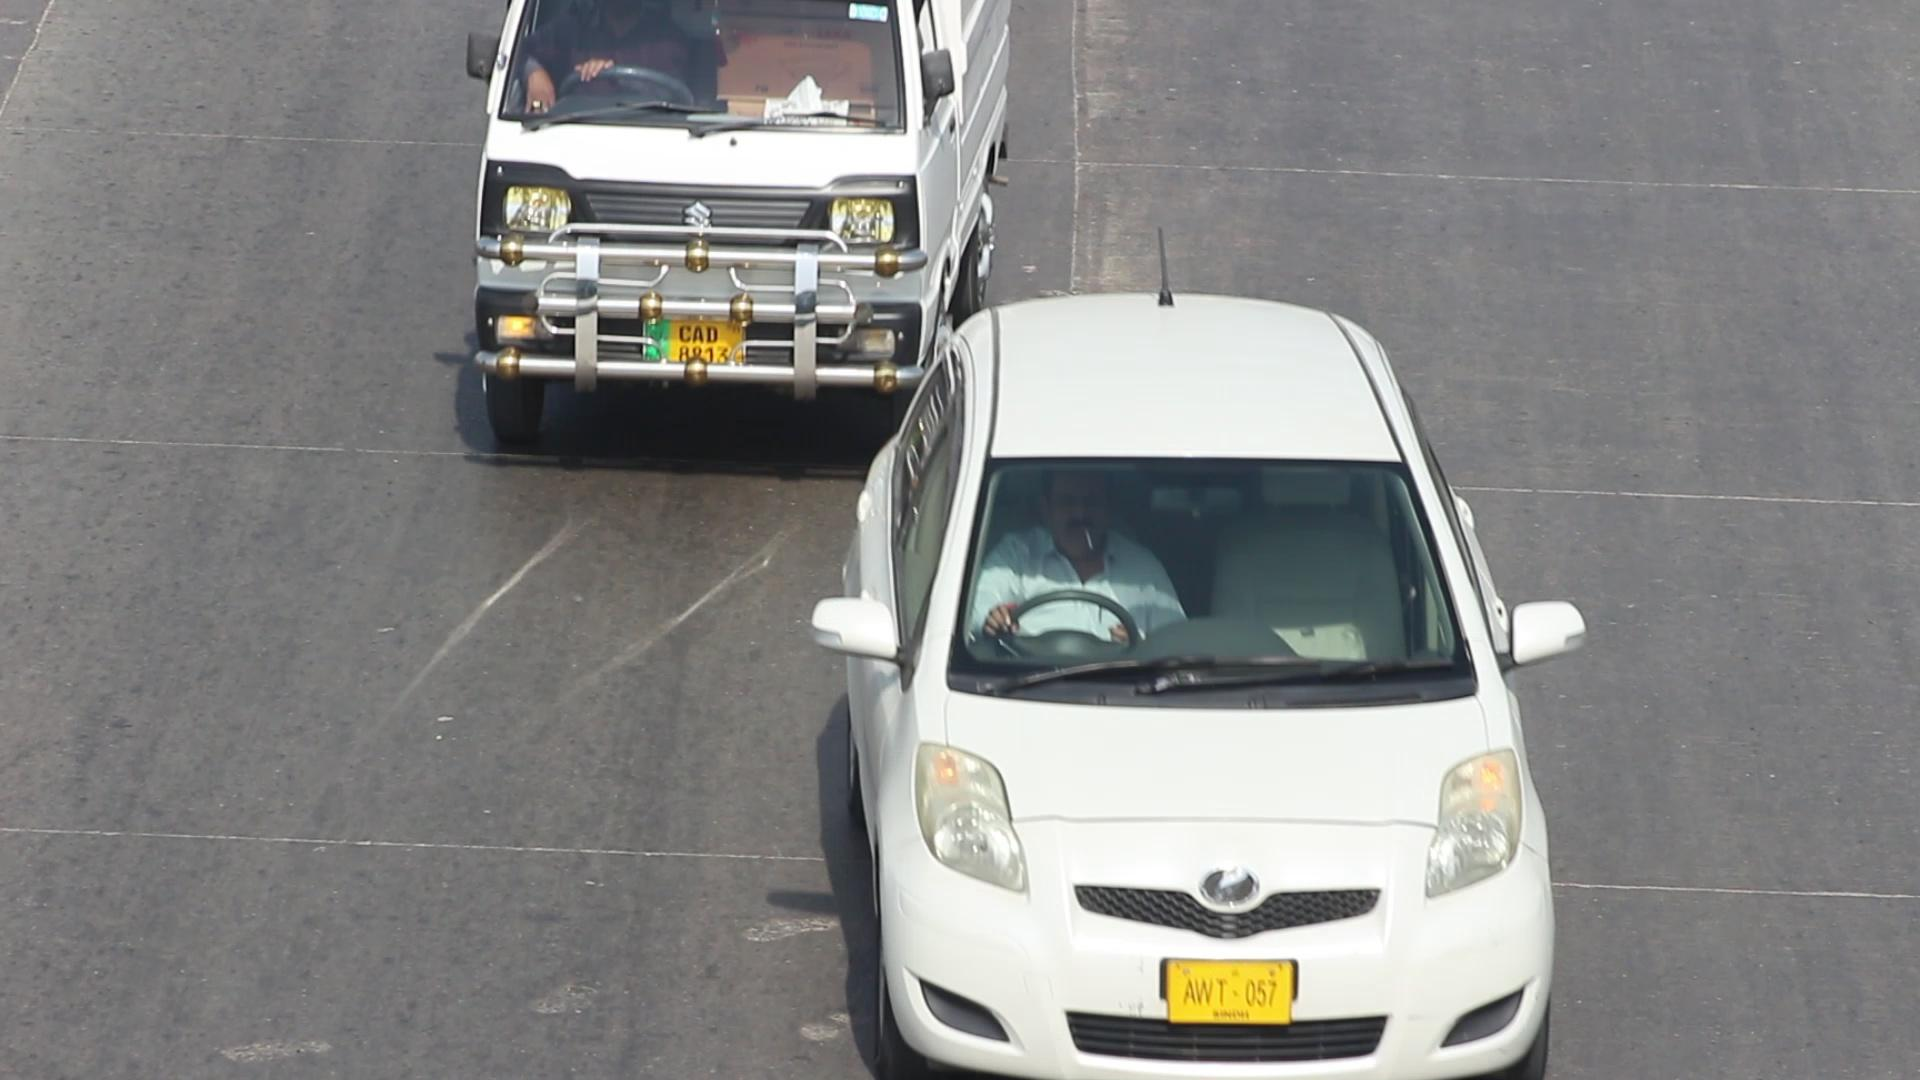windshield: (944, 443, 1494, 703)
